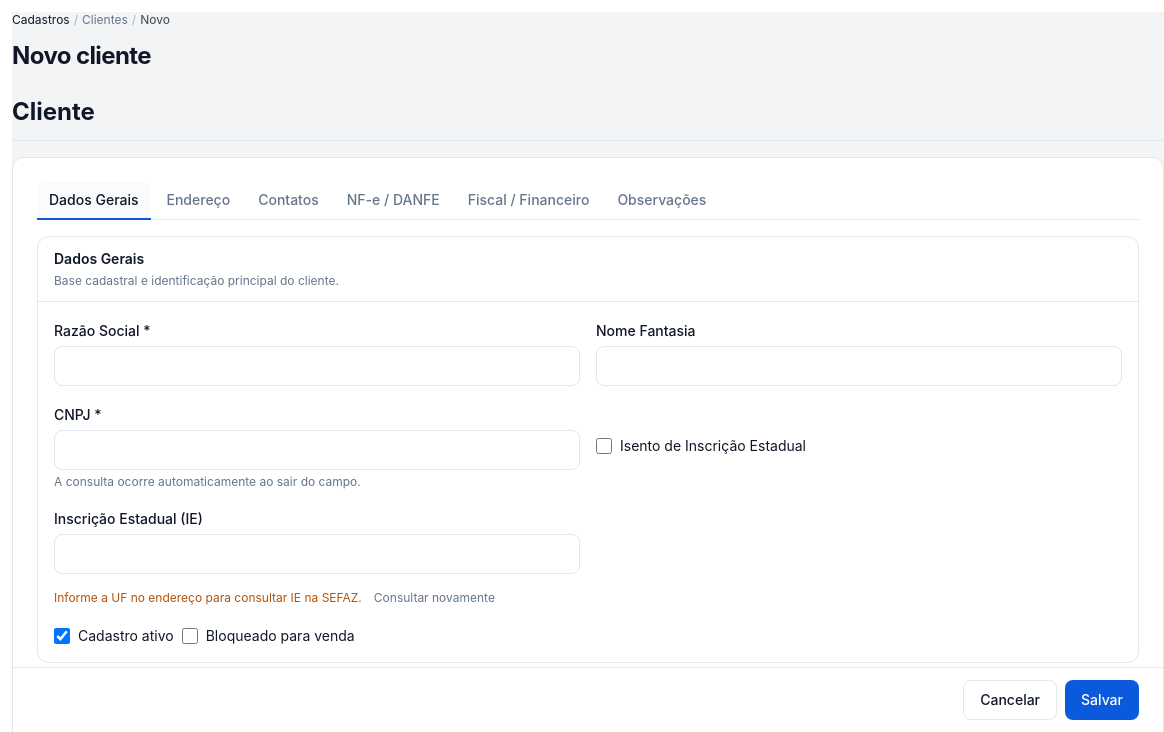
Scenario: ClienteFormPage — CNPJ duplicado › 401 e 403 do save não viram mensagem de duplicidade
This screenshot has width=1164, height=732.
In the field labelled "Razão Social *": (317, 366) x1=54 y1=346 x2=580 y2=386, type "Cliente Teste LTDA"
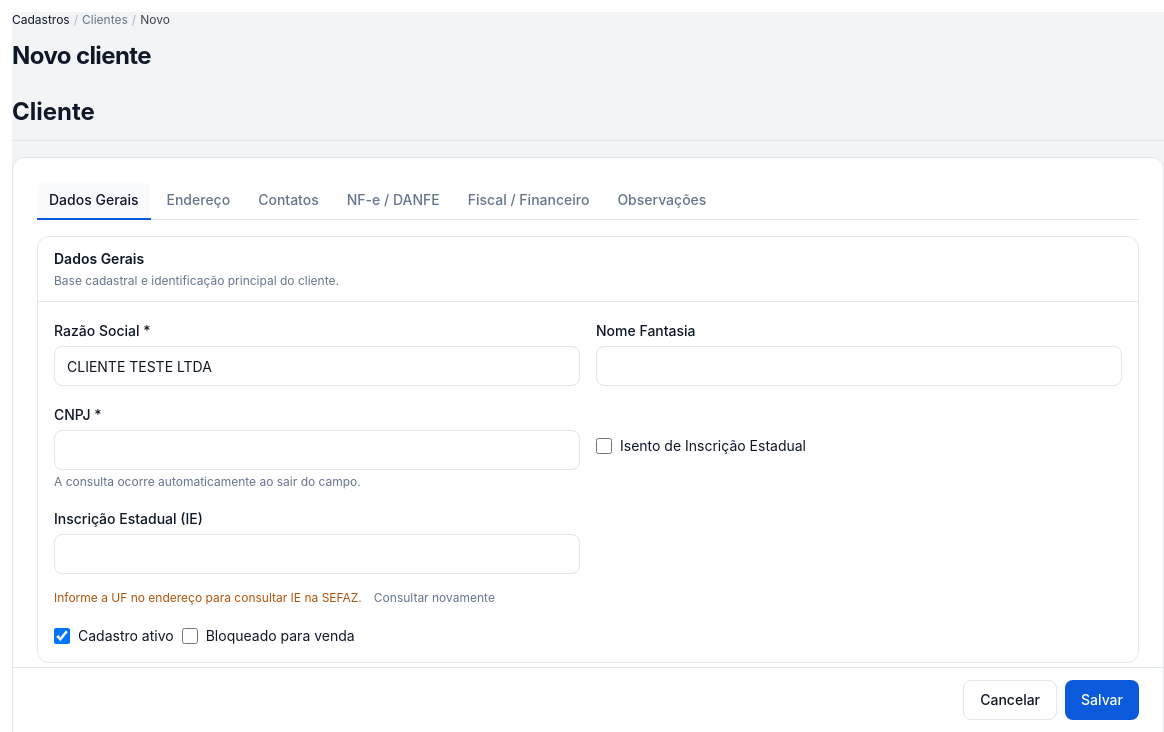
In the field labelled "CNPJ *": (317, 450) x1=54 y1=430 x2=580 y2=470, type "04.252.011/0001-10"
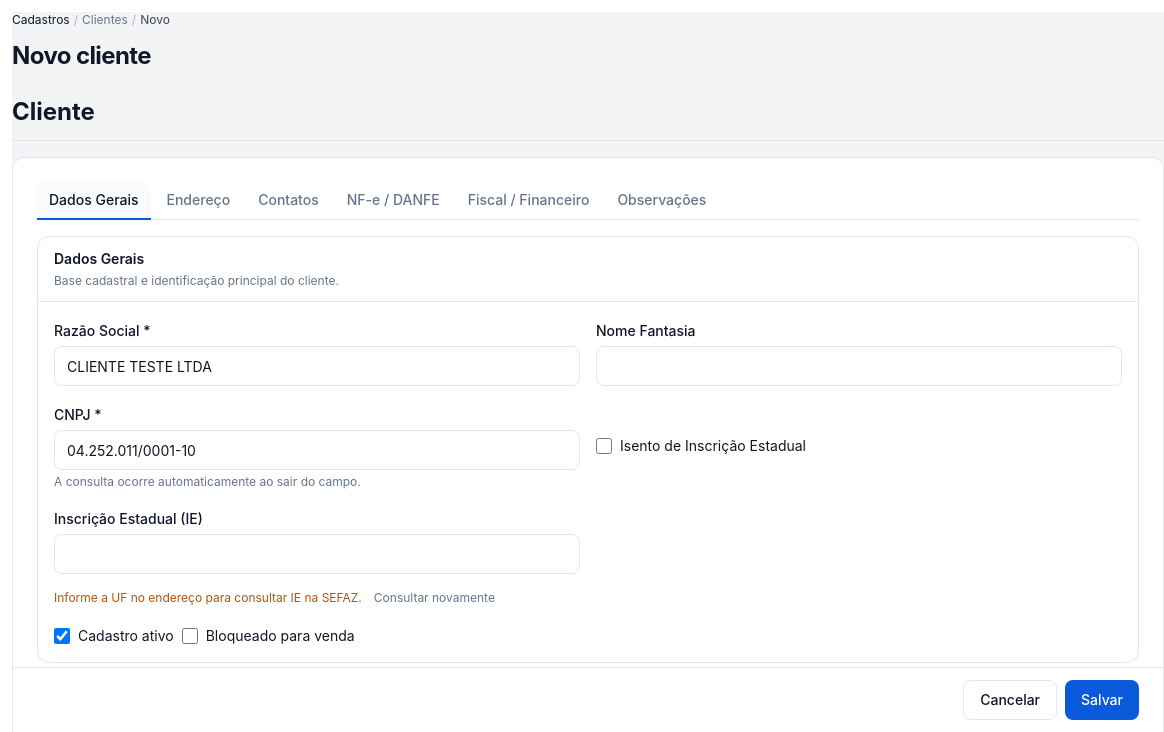
Click the button "Salvar": (1102, 700) x1=1065 y1=680 x2=1139 y2=720
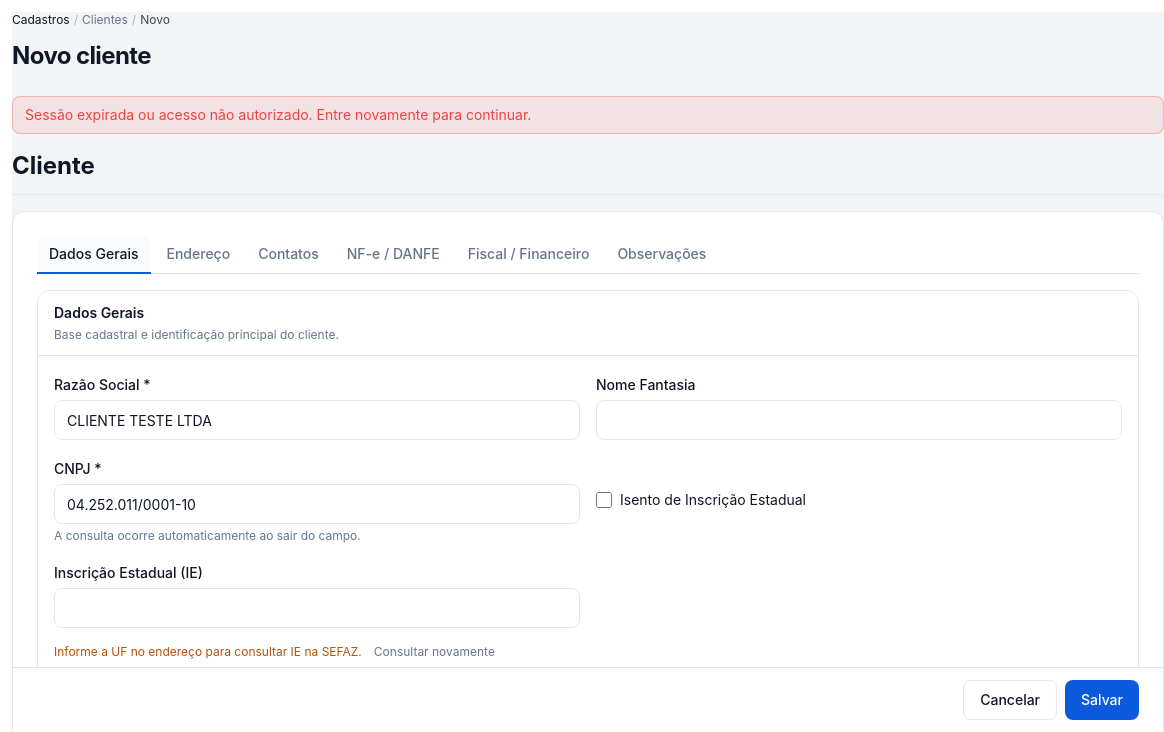
Check: the message with test id "cliente-form-save-error" reads "Sessão expirada ou acesso não autorizado. Entre novamente para continuar.", box x1=25 y1=106 x2=531 y2=123
Click the button "Salvar": (1102, 700) x1=1065 y1=680 x2=1139 y2=720
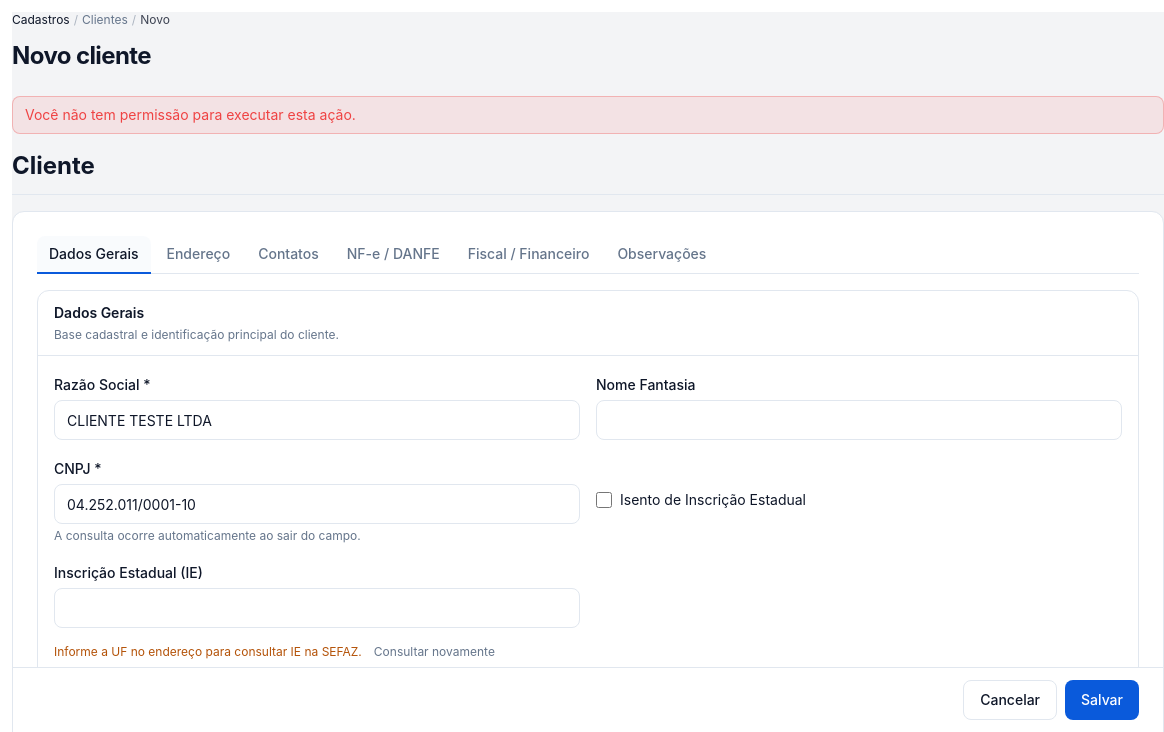
Check: the text "Você não tem permissão para executar esta ação." is shown, box x1=25 y1=106 x2=356 y2=123
